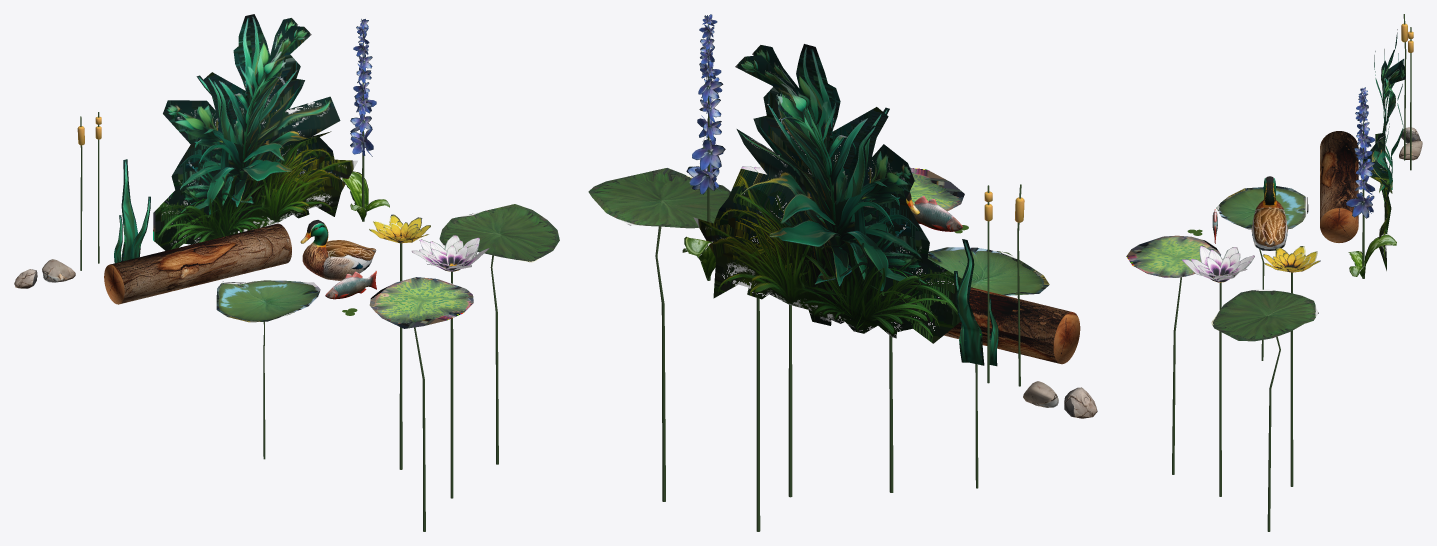
File: pond_assets.glb
The picture shows the model from 3 angles, left to right: view 1: azimuth 30°, elevation 25°; view 2: azimuth 150°, elevation 25°; view 3: azimuth 270°, elevation 25°; orthographic projection. The views are drawn at different scales.
Visible parts, largest first — view 1: grass_01, Cylinder, leaf_02, leaf_03, leaf_01, reed_01, duck, lotus_02, lotus_01, water_grass_02, fish; view 2: grass_01, leaf_02, Cylinder, reed_01, leaf_01, leaf_03, water_grass_02, fish, lotus_02, lotus_01, stone_02, sedge_01 (+2 smaller); view 3: leaf_02, Cylinder, leaf_03, reed_01, grass_01, leaf_01, lotus_02, duck, lotus_01, sedge_01, sedge_02.
Part boxes in pixels (box(x1,y1,x2,y2)): grass_01: box(153, 14, 357, 250); Cylinder: box(104, 223, 291, 304); leaf_02: box(439, 204, 559, 464); leaf_03: box(369, 277, 473, 531); leaf_01: box(216, 280, 320, 459); reed_01: box(340, 19, 389, 221); duck: box(300, 220, 376, 280); lotus_02: box(411, 235, 489, 498); lotus_01: box(369, 214, 430, 469); water_grass_02: box(121, 159, 150, 261); fish: box(325, 270, 376, 299); grass_01: box(693, 44, 961, 343); leaf_02: box(588, 168, 730, 501); Cylinder: box(944, 287, 1080, 364); reed_01: box(682, 14, 725, 280); leaf_01: box(927, 247, 1049, 488); leaf_03: box(889, 167, 964, 492); water_grass_02: box(954, 239, 984, 365); fish: box(911, 196, 962, 231); lotus_02: box(741, 166, 792, 497); lotus_01: box(756, 298, 760, 531); stone_02: box(1064, 387, 1097, 418); sedge_01: box(984, 185, 992, 383); leaf_02: box(1211, 289, 1318, 531); Cylinder: box(1320, 131, 1358, 242); leaf_03: box(1126, 235, 1220, 474); reed_01: box(1346, 87, 1396, 278); grass_01: box(1364, 29, 1405, 270); leaf_01: box(1216, 186, 1308, 360); lotus_02: box(1182, 245, 1254, 496); duck: box(1251, 176, 1287, 250); lotus_01: box(1262, 246, 1320, 486); sedge_01: box(1408, 27, 1413, 170); sedge_02: box(1401, 14, 1407, 160).
Bounding box in the file's own units: 25.86 × 23.82 × 15.3.
3 materials, 3 textured.
